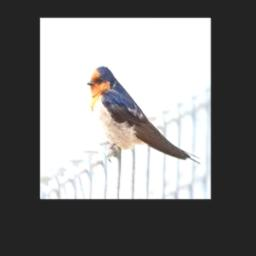Swallow: (87, 66, 201, 165)
